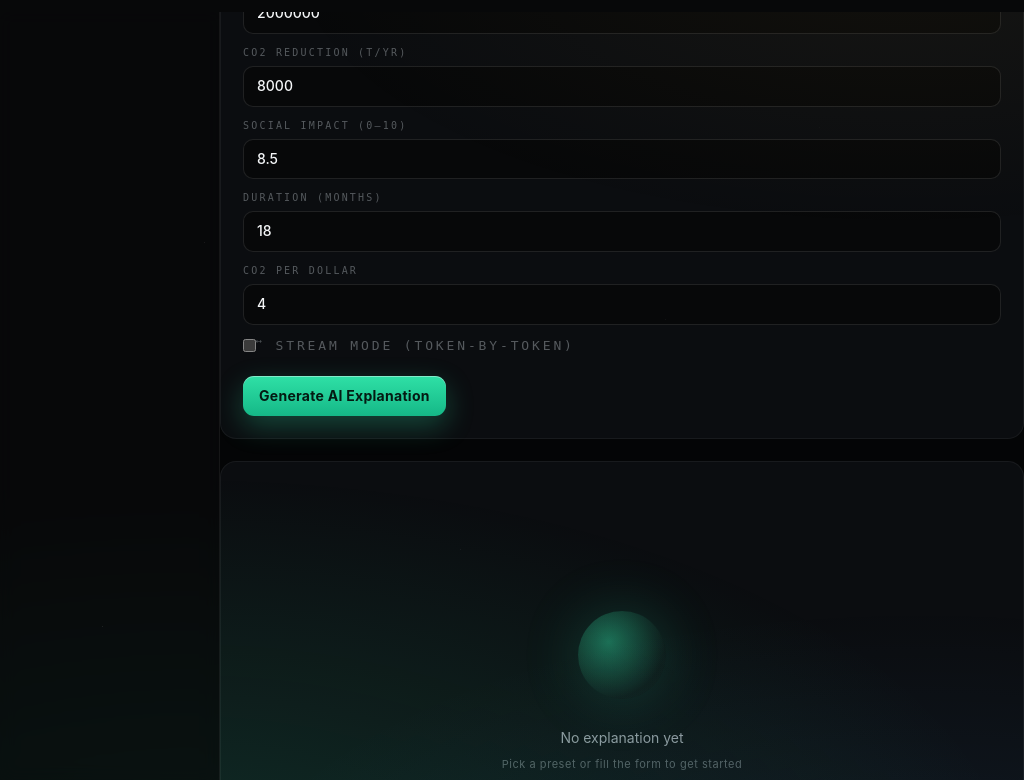
Test: CopilotPage (production path) › sends the attributions /predict/explain returned, never the old constants (F016)
(page scrolled)
Click the button "Generate AI Explanation": point(344, 396) [243, 376, 446, 416]
(page scrolled)
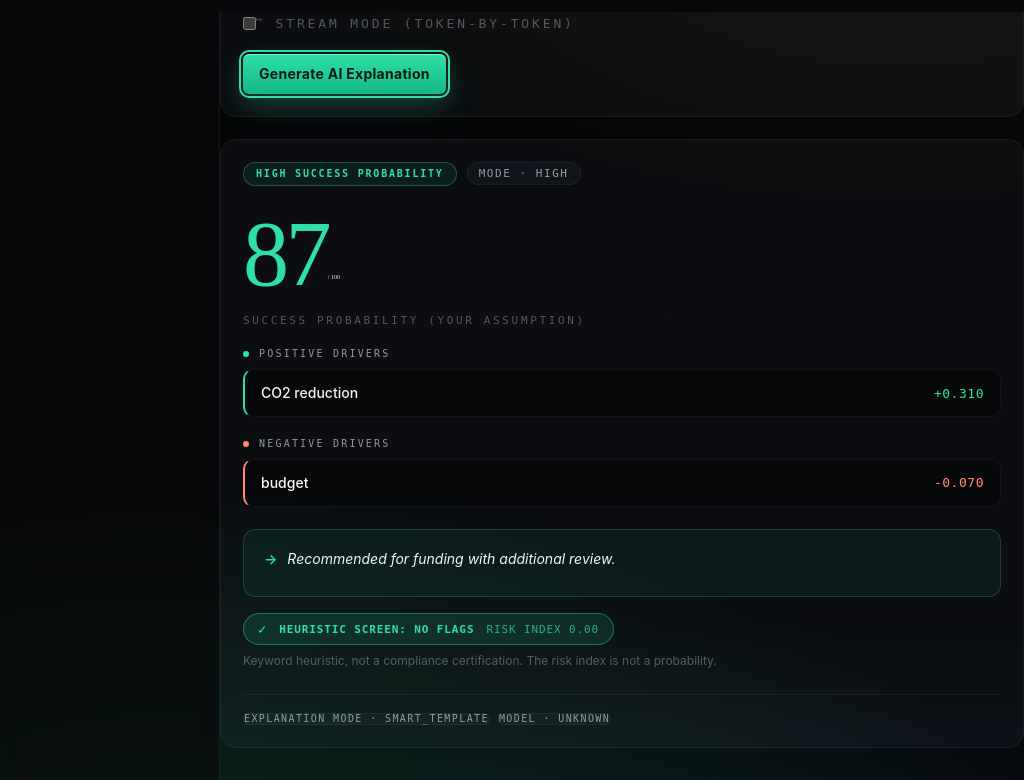
Now the text "Recommended for funding with additional review." is shown, box [287, 548, 615, 570]
